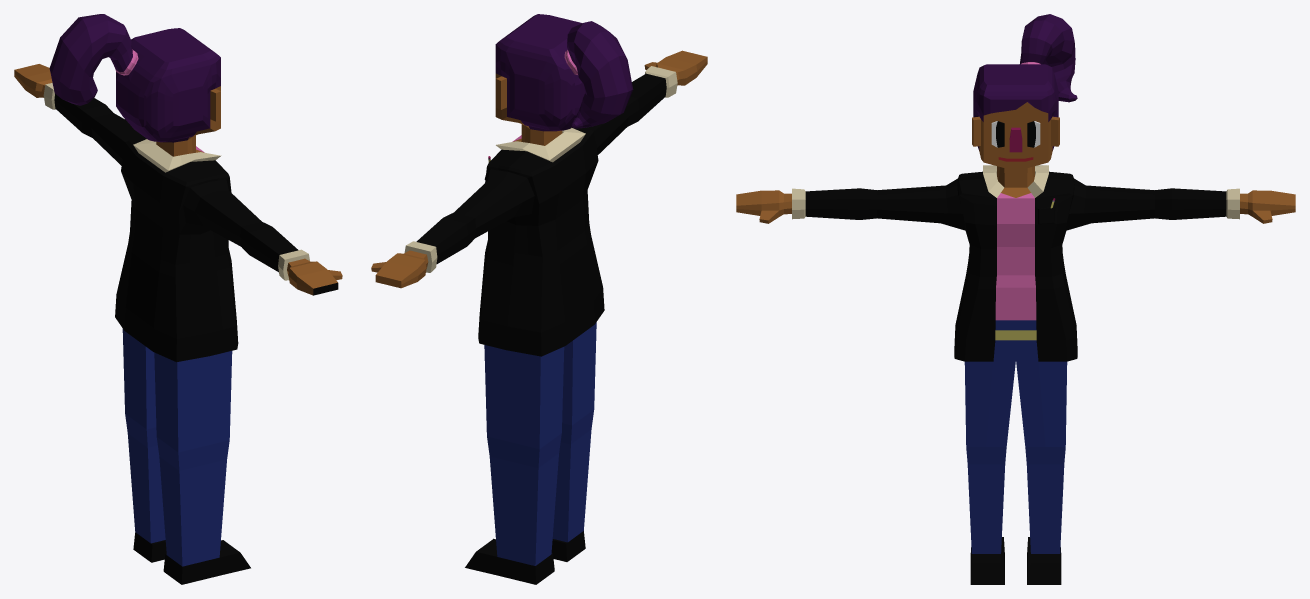
The model's file is boss.fbx.
The picture shows the model from 3 angles, left to right: view 1: azimuth 30°, elevation 25°; view 2: azimuth 150°, elevation 25°; view 3: azimuth 270°, elevation 25°; orthographic projection. The views are drawn at different scales.
Parts seen in each view (by area): view 1: Cube; view 2: Cube; view 3: Cube.
Part boxes in pixels (<box>): Cube: <box>14,14,342,584</box>; Cube: <box>371,14,707,584</box>; Cube: <box>736,14,1295,584</box>.
Bounding box in the file's own units: 337 × 1144 × 1124.
